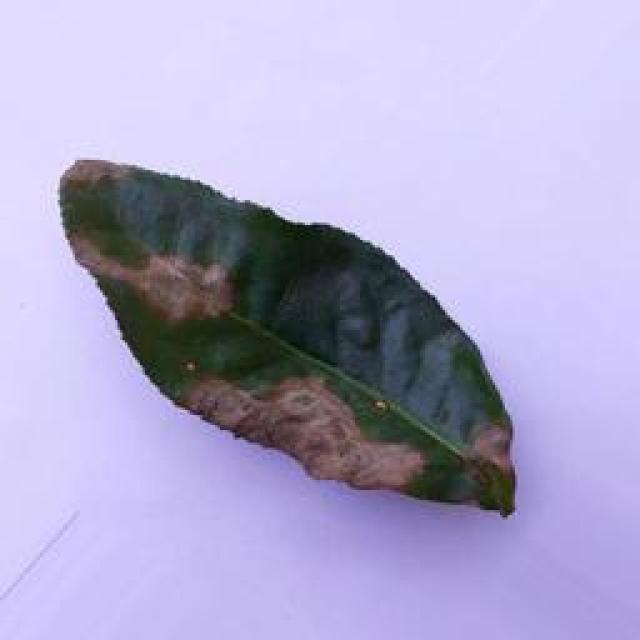Gray Blight: (59, 153, 518, 519)
